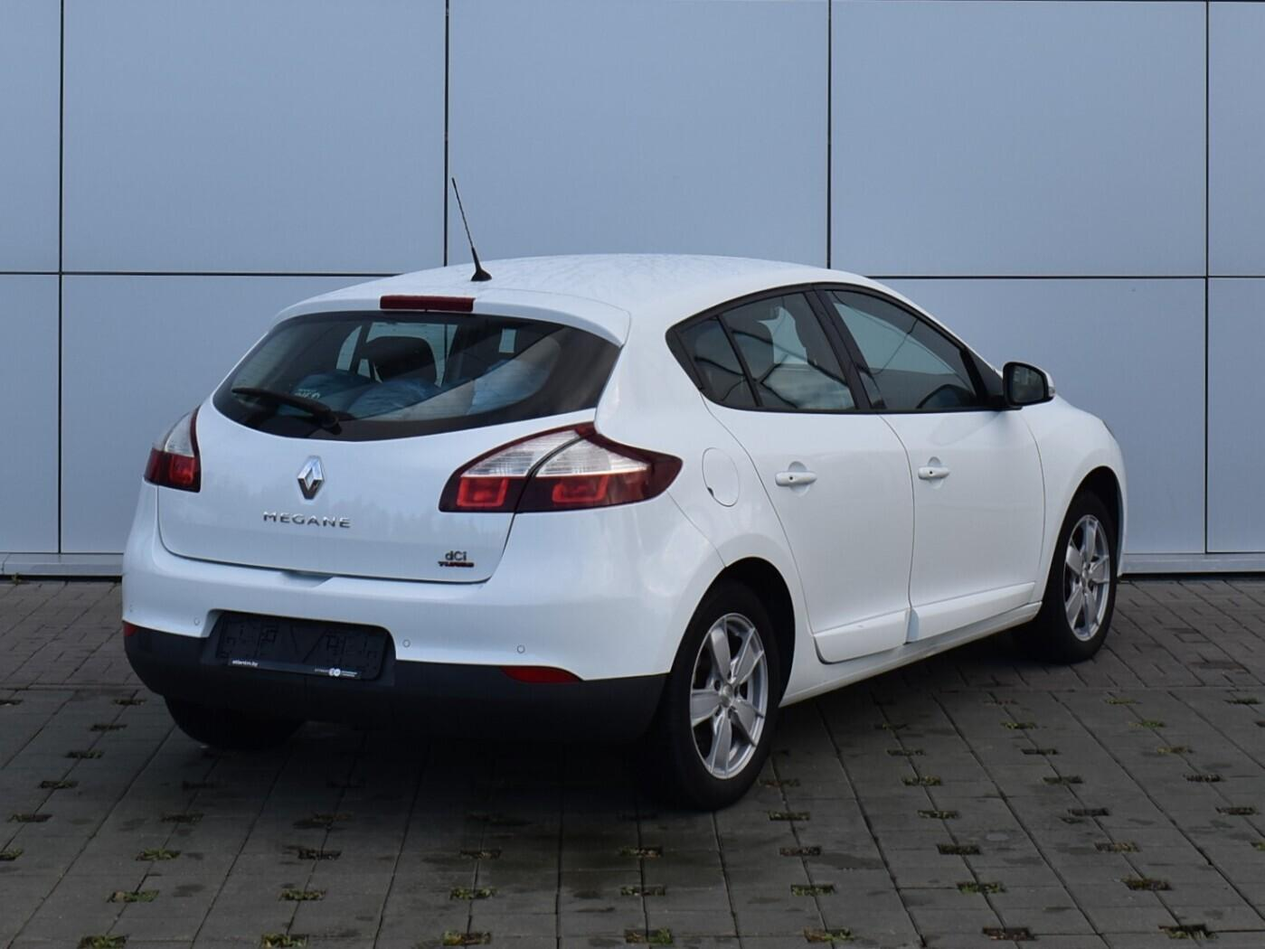Megane_2014-2016: (98, 240, 1154, 790)
